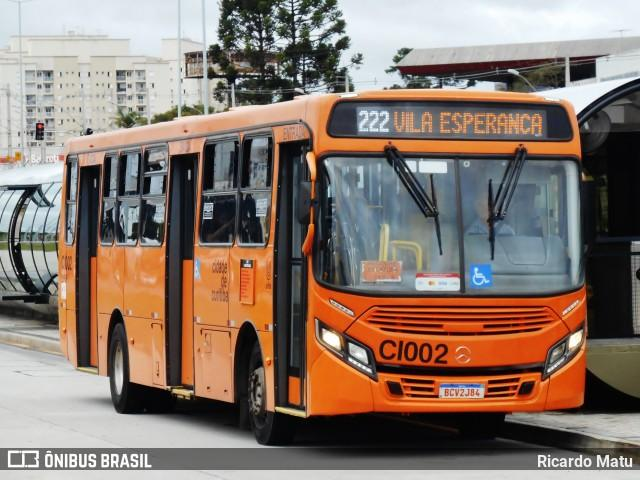VILA ESPERANCA: (391, 107, 545, 139)
